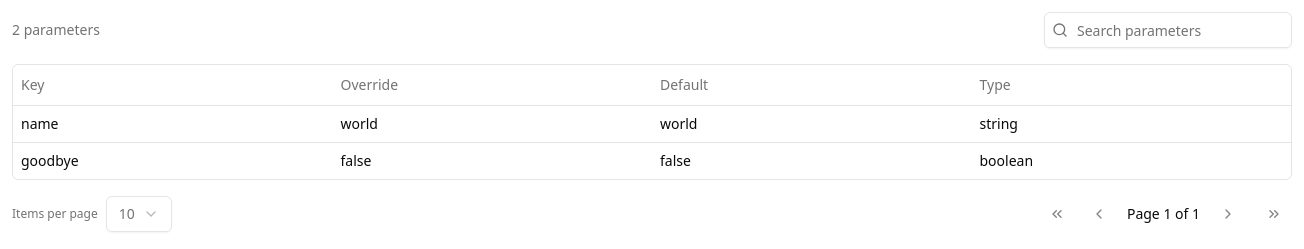
Test: DeploymentParametersTable › filters table rows
// ------------ Act
Type "name" into the field at coordinates (1168, 30), box [1044,12,1292,48]
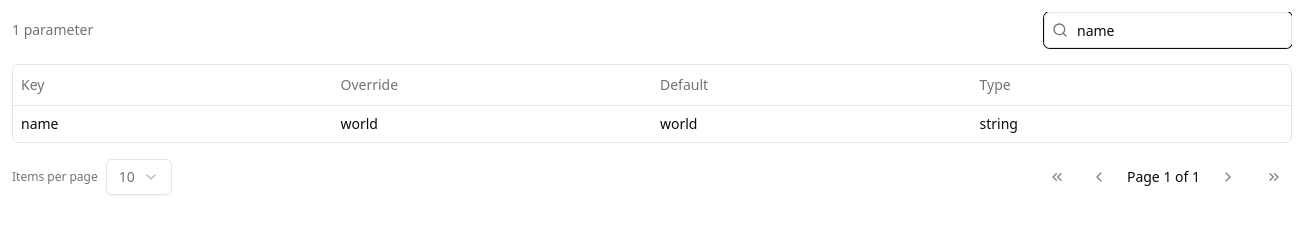
Check: the cell "name" is shown, box [13,105,332,142]
Check: the cell "goodbye" is gone
